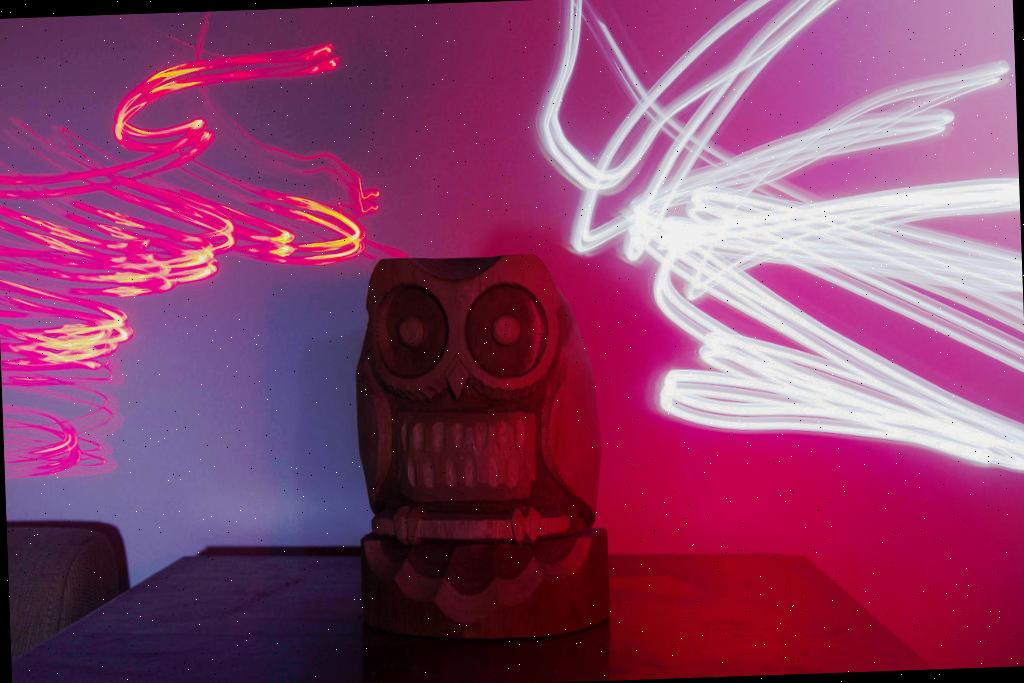Owl: (350, 252, 612, 650)
